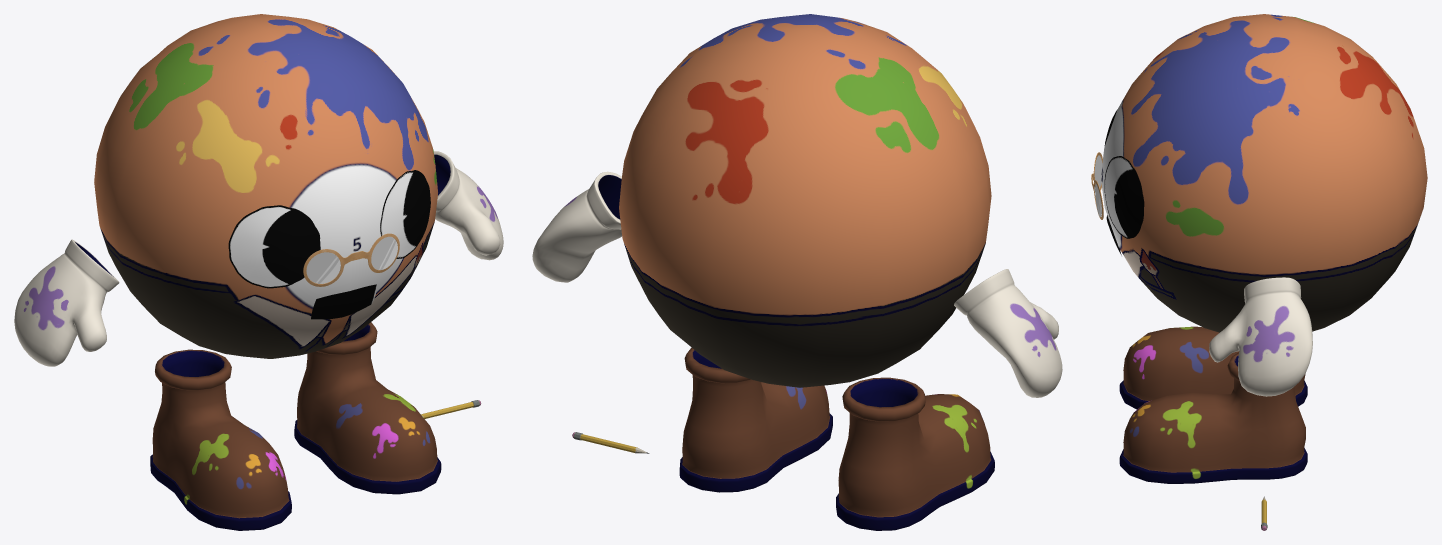
Rendered from Chara_MOD_Musee2_001.fbx.
The picture shows the model from 3 angles, left to right: view 1: azimuth 30°, elevation 25°; view 2: azimuth 150°, elevation 25°; view 3: azimuth 270°, elevation 25°; orthographic projection. The views are drawn at different scales.
Visible parts, largest first — view 1: Character_Personnage_JoueurMOD, shoes:Shoe_NO1_Left_Msh, shoes:Shoe_NO1_RIght_Msh, R_Glove_Hand_MOD, R_Eyes_MOD, L_Glove_Hand_MOD, L_Eyes_MOD, Mouth_MOD, Glasses_002_MOD, Glasses, Glasses_002_MOD_002Lunettes; view 2: Character_Personnage_JoueurMOD, shoes:Shoe_NO1_Left_Msh, shoes:Shoe_NO1_RIght_Msh, R_Glove_Hand_MOD, L_Glove_Hand_MOD; view 3: Character_Personnage_JoueurMOD, shoes:Shoe_NO1_RIght_Msh, L_Glove_Hand_MOD, shoes:Shoe_NO1_Left_Msh, L_Eyes_MOD.
Boxes of the visible parts, bbox=[...] form: Character_Personnage_JoueurMOD: bbox=[94, 14, 437, 358]; shoes:Shoe_NO1_Left_Msh: bbox=[150, 349, 291, 530]; shoes:Shoe_NO1_RIght_Msh: bbox=[294, 322, 441, 494]; R_Glove_Hand_MOD: bbox=[14, 239, 119, 366]; R_Eyes_MOD: bbox=[228, 205, 320, 288]; L_Glove_Hand_MOD: bbox=[433, 151, 503, 260]; L_Eyes_MOD: bbox=[380, 170, 430, 258]; Mouth_MOD: bbox=[311, 284, 376, 319]; Glasses_002_MOD: bbox=[303, 233, 399, 286]; Glasses: bbox=[306, 252, 340, 283]; Glasses_002_MOD_002Lunettes: bbox=[371, 236, 397, 270]; Character_Personnage_JoueurMOD: bbox=[619, 14, 991, 387]; shoes:Shoe_NO1_Left_Msh: bbox=[836, 377, 994, 530]; shoes:Shoe_NO1_RIght_Msh: bbox=[679, 347, 832, 492]; R_Glove_Hand_MOD: bbox=[954, 269, 1062, 397]; L_Glove_Hand_MOD: bbox=[532, 171, 621, 282]; Character_Personnage_JoueurMOD: bbox=[1101, 14, 1427, 332]; shoes:Shoe_NO1_RIght_Msh: bbox=[1119, 352, 1307, 483]; L_Glove_Hand_MOD: bbox=[1209, 277, 1312, 396]; shoes:Shoe_NO1_Left_Msh: bbox=[1119, 326, 1307, 409]; L_Eyes_MOD: bbox=[1104, 156, 1144, 238].
Size of the model in its own units: 1.43 by 1.24 by 0.9361.
7 materials, 7 textured.
